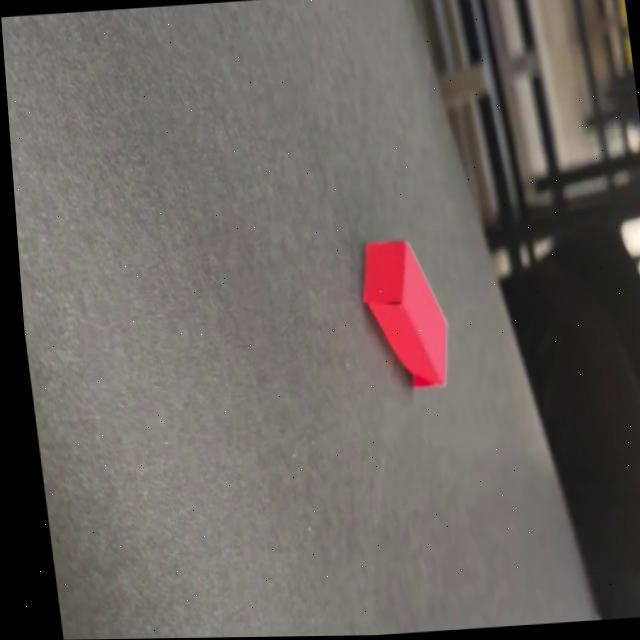red block: (355, 234, 458, 392)
